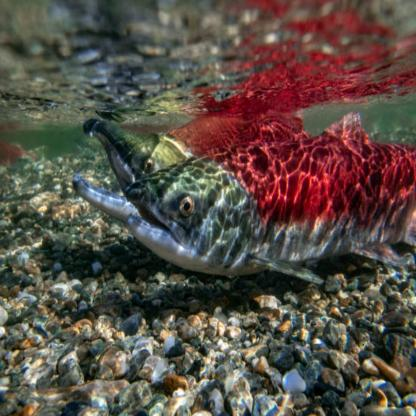sockeye: (122, 137, 416, 284), (87, 106, 310, 210)
sockeye-group: (75, 101, 406, 266)
